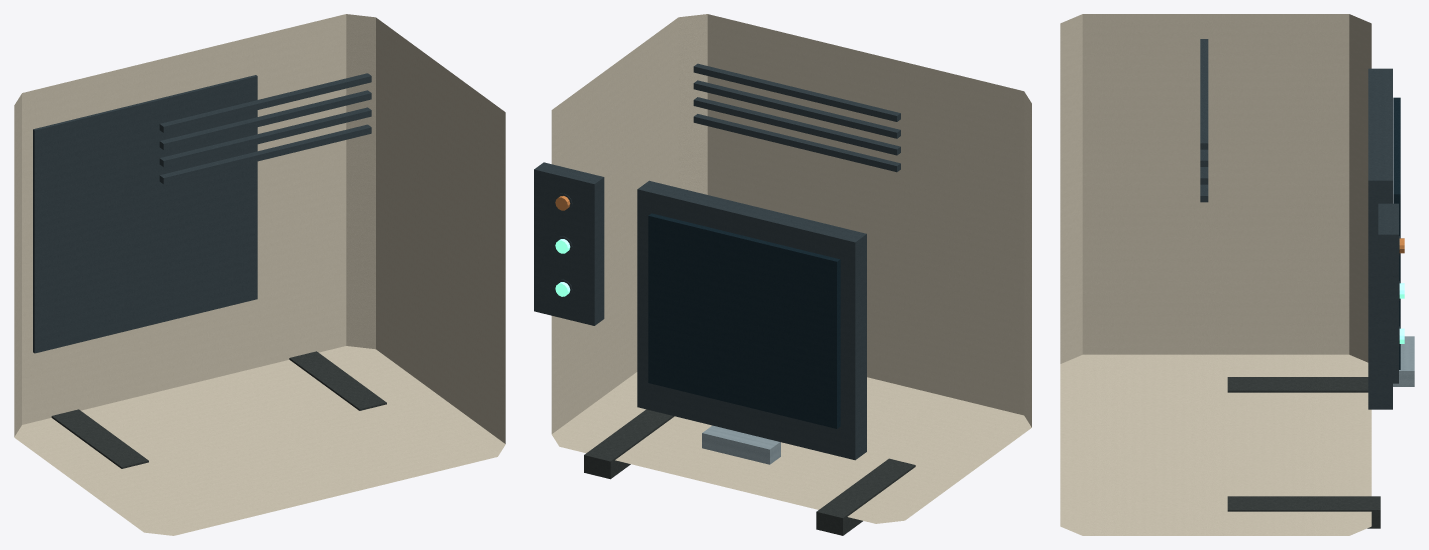
File: food_warmer.glb
The picture shows the model from 3 angles, left to right: view 1: azimuth 30°, elevation 25°; view 2: azimuth 150°, elevation 25°; view 3: azimuth 270°, elevation 25°; orthographic projection. The views are drawn at different scales.
Visible parts, largest first — view 1: Thermal_Case__cream, Door__graphite, Vents__graphite, AntiSlip_Feet__rubber; view 2: Thermal_Case__cream, Door_Window__screen, Door__graphite, Control__graphite, Vents__graphite, AntiSlip_Feet__rubber, Door_Handle__alloy; view 3: Thermal_Case__cream, Door__graphite, AntiSlip_Feet__rubber, Control__graphite, Vents__graphite, Door_Window__screen, Door_Handle__alloy.
Boxes of the visible parts, <box> form: Thermal_Case__cream: <box>14,14,505,535</box>; Door__graphite: <box>33,75,257,353</box>; Vents__graphite: <box>159,73,371,184</box>; AntiSlip_Feet__rubber: <box>51,351,386,468</box>; Thermal_Case__cream: <box>551,14,1031,523</box>; Door_Window__screen: <box>648,213,840,428</box>; Door__graphite: <box>637,180,866,460</box>; Control__graphite: <box>534,162,604,325</box>; Vents__graphite: <box>693,63,900,172</box>; AntiSlip_Feet__rubber: <box>584,409,915,535</box>; Door_Handle__alloy: <box>702,425,780,464</box>; Thermal_Case__cream: <box>1060,14,1371,535</box>; Door__graphite: <box>1368,68,1392,409</box>; AntiSlip_Feet__rubber: <box>1227,377,1380,528</box>; Control__graphite: <box>1378,203,1399,383</box>; Vents__graphite: <box>1200,39,1208,202</box>; Door_Window__screen: <box>1393,97,1400,369</box>; Door_Handle__alloy: <box>1393,336,1414,386</box>.
Size of the model in its own units: 0.73 by 0.697 by 0.603.
7 materials, 7 textured.
